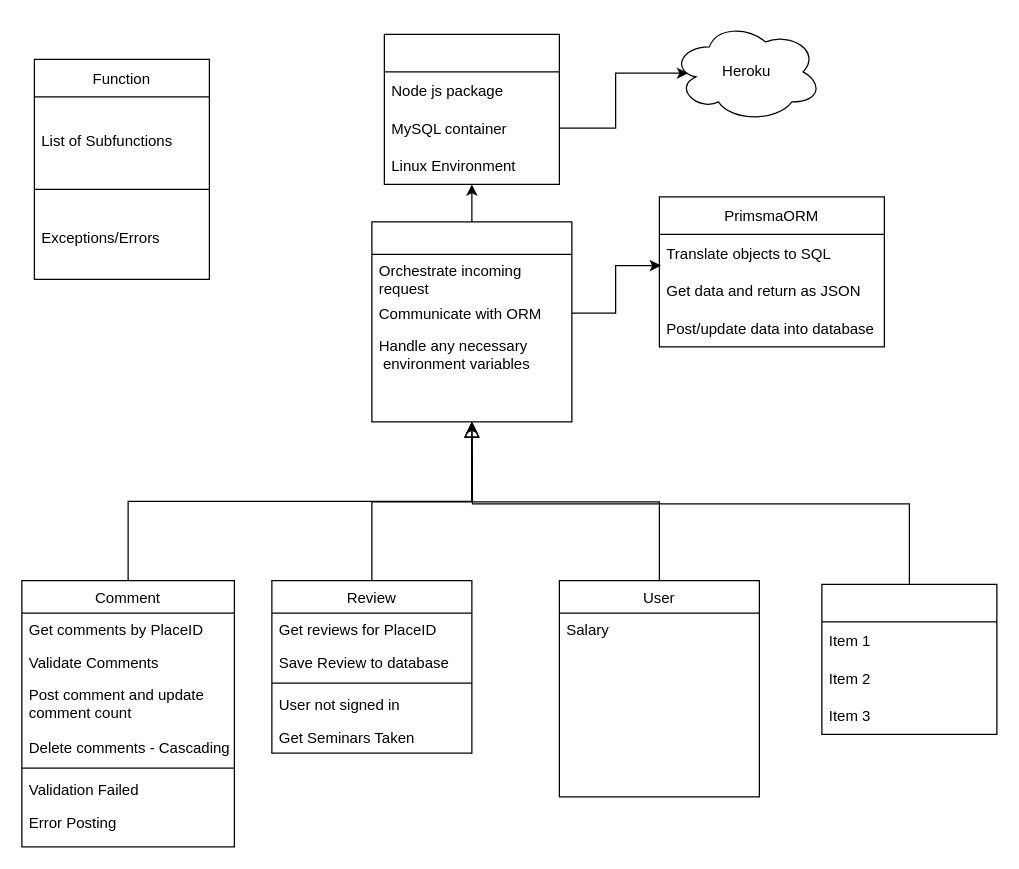
The diagram is 1019 pixels wide and 869 high, and some of its shapes have lost their labels. Each missing label, with the box of its shape:
Docker Instance: (383, 33, 559, 184)
Express: (371, 221, 572, 422)
Rating: (821, 583, 997, 734)
